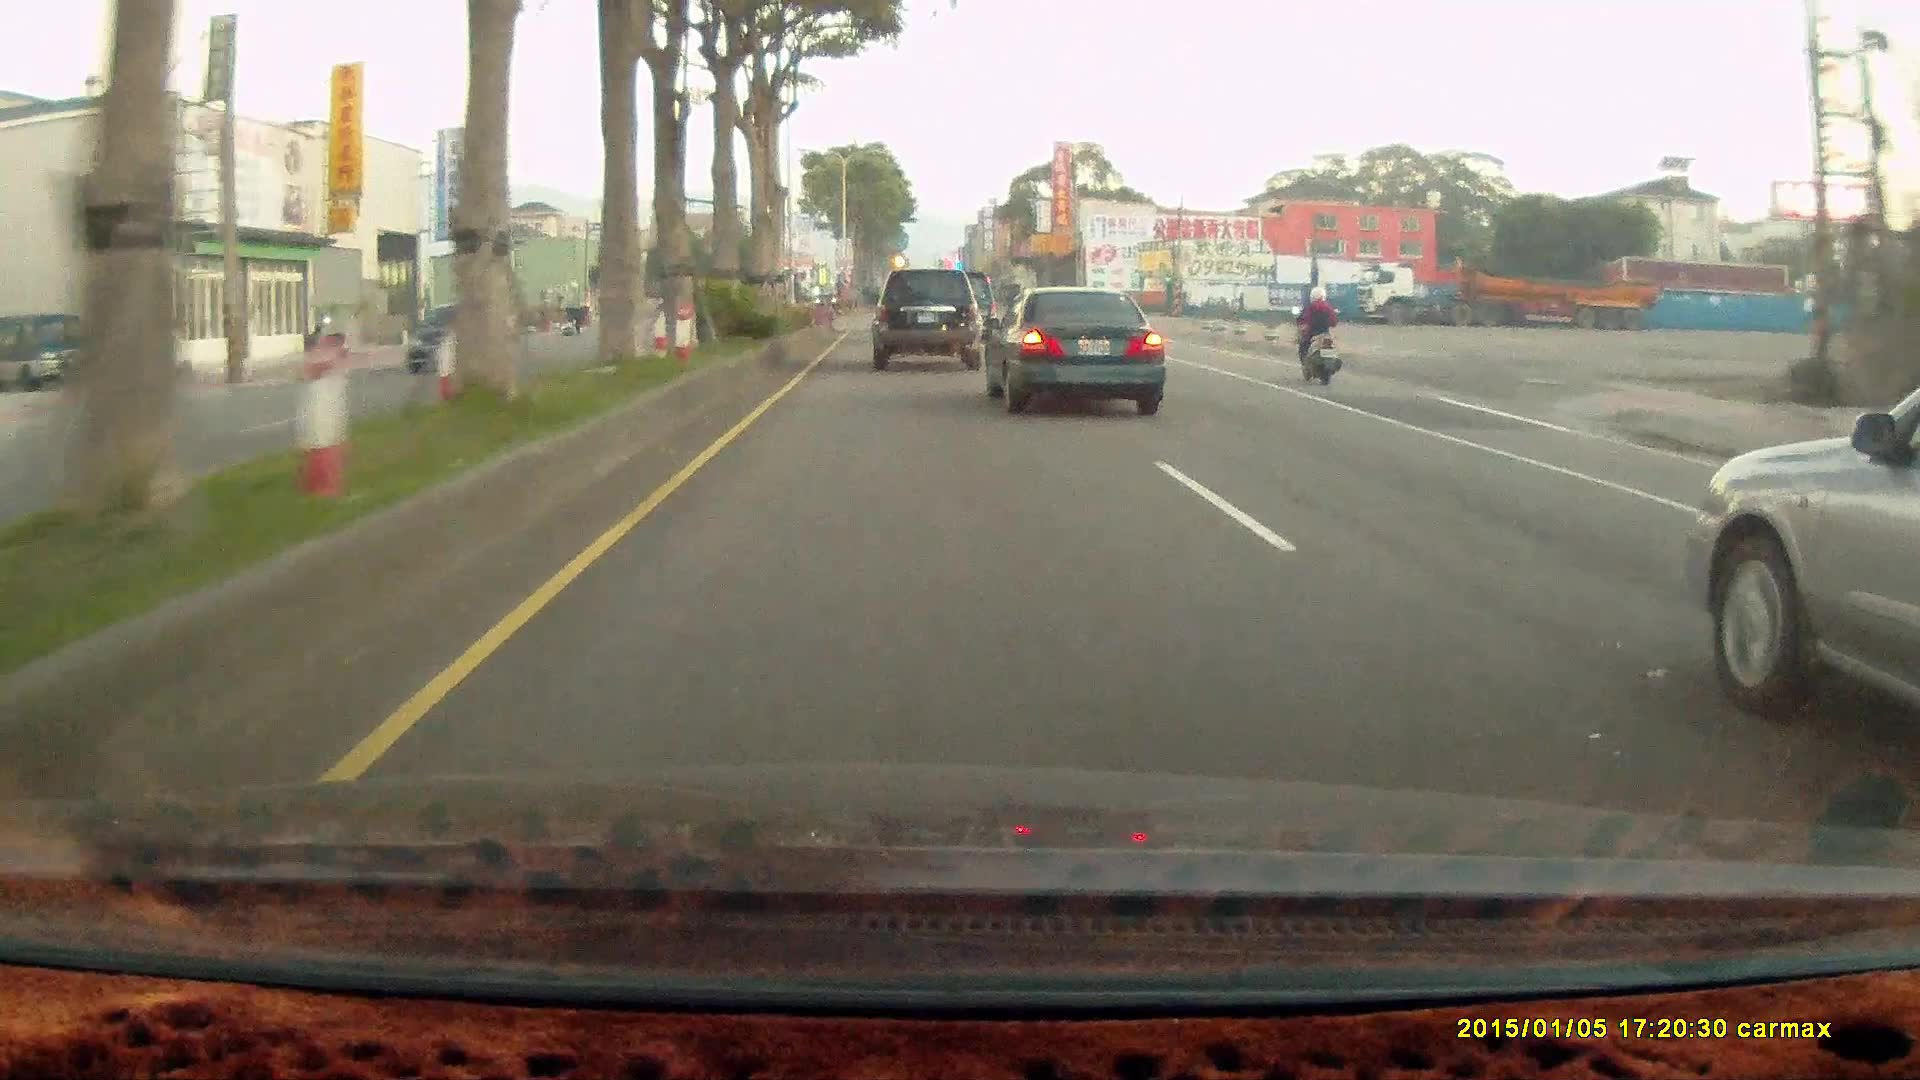pedestrian: (560, 303, 585, 335)
rider: (1282, 278, 1352, 393), (1290, 282, 1341, 383)
vehicle: (1689, 378, 1920, 731), (980, 284, 1164, 413), (987, 286, 1167, 415), (1357, 257, 1656, 328), (871, 264, 987, 368), (868, 266, 980, 368), (404, 299, 525, 374), (1, 310, 100, 388), (0, 310, 97, 388)
